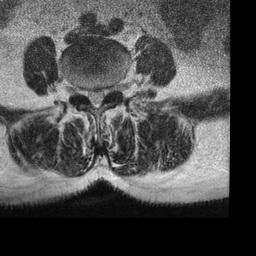CCS_normal: (91, 77, 99, 115)
LFS_normal: (106, 77, 115, 101)
LLS_normal: (99, 77, 106, 111)
RFS_normal: (76, 77, 85, 102)
RLS_normal: (84, 77, 91, 110)
